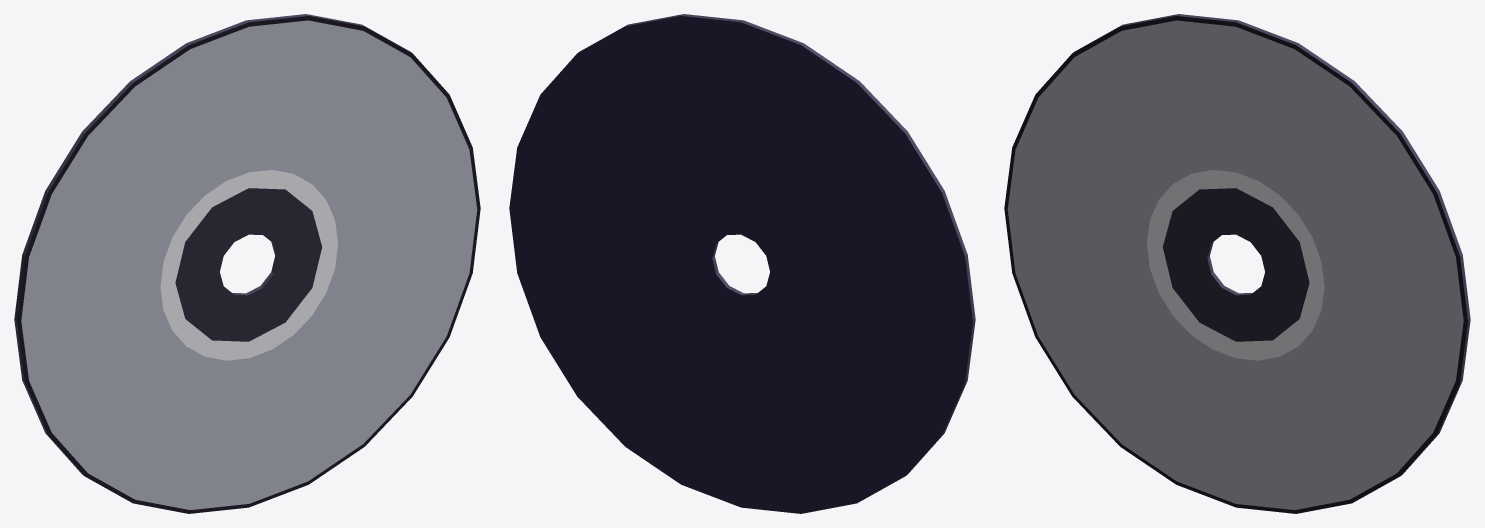
The model's file is psx.obj.
3 views of the same model, side by side, from view 1: azimuth 30°, elevation 25°; view 2: azimuth 150°, elevation 25°; view 3: azimuth 330°, elevation 25° (orthographic).
Parts seen in each view (by area): view 1: psx; view 2: psx; view 3: psx.
Part boxes in pixels (x1,y1,x2,y2): psx: (14, 14, 480, 513); psx: (509, 14, 975, 513); psx: (1004, 14, 1470, 513).
Size of the model in its own units: 12 by 12 by 0.14.
